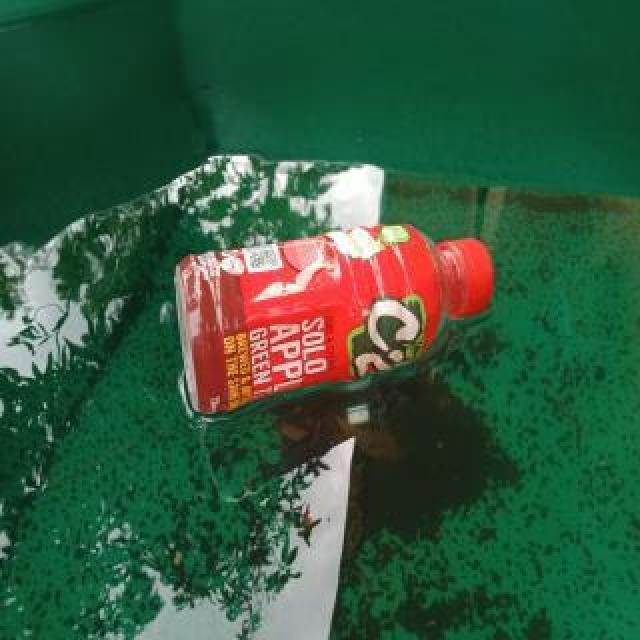bottle: (169, 217, 497, 413)
